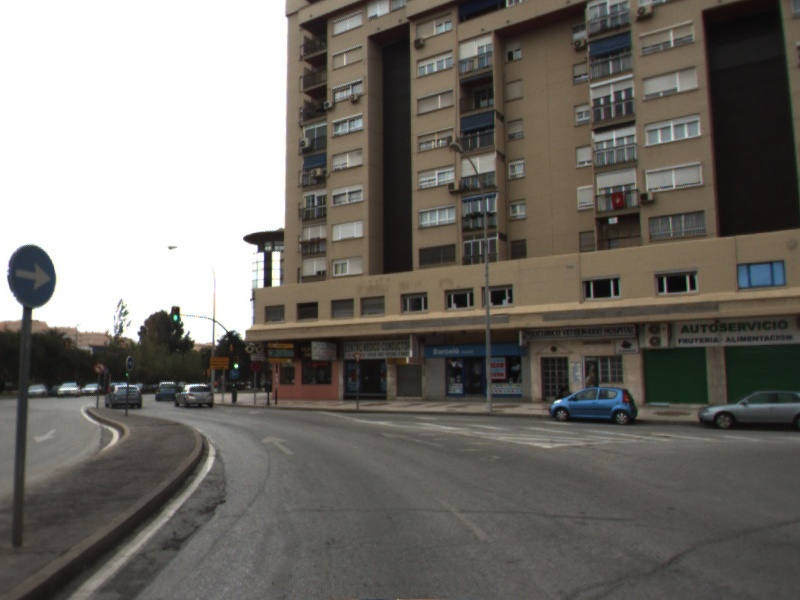STRAIGHT: (378, 430, 445, 449), (259, 433, 296, 457)
